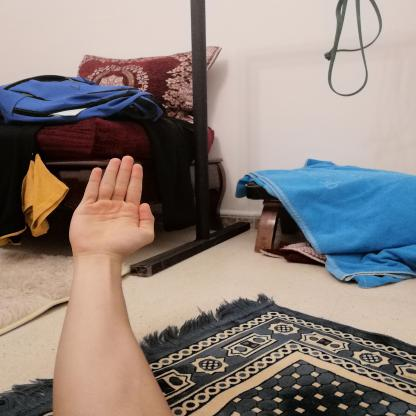SEEN: (60, 146, 161, 262)
